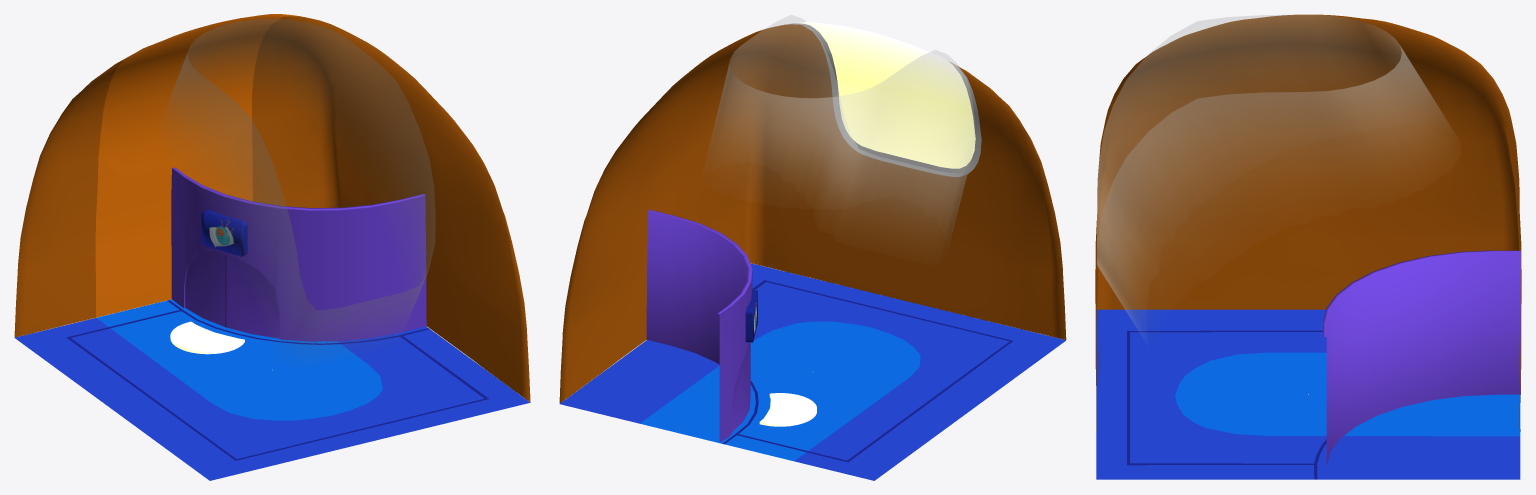
File: nosy_interior.glb
3 renders of one model, left to right at view 1: azimuth 30°, elevation 25°; view 2: azimuth 150°, elevation 25°; view 3: azimuth 270°, elevation 25°, orthographic. The views are drawn at different scales.
Visible parts, largest first — view 1: Walls, Plane, Cylinder.005, Cylinder, Cylinder.002, Cylinder.001, Cylinder.003; view 2: Walls, Plane, Cylinder.005, Walls.001, Cylinder, Cylinder.001, Cylinder.002; view 3: Walls, Cylinder.005, Plane, Cylinder.
Boxes of the visible parts, bbox=[...] form: Walls: bbox=[14, 14, 530, 402]; Plane: bbox=[14, 299, 530, 480]; Cylinder.005: bbox=[167, 19, 435, 346]; Cylinder: bbox=[171, 167, 426, 341]; Cylinder.002: bbox=[184, 251, 279, 338]; Cylinder.001: bbox=[170, 321, 244, 354]; Cylinder.003: bbox=[201, 209, 247, 256]; Walls: bbox=[559, 24, 1066, 403]; Plane: bbox=[560, 263, 1065, 480]; Cylinder.005: bbox=[707, 15, 974, 236]; Walls.001: bbox=[786, 22, 981, 176]; Cylinder: bbox=[646, 209, 752, 442]; Cylinder.001: bbox=[759, 393, 816, 426]; Cylinder.002: bbox=[732, 342, 750, 431]; Walls: bbox=[1095, 14, 1521, 431]; Cylinder.005: bbox=[1097, 14, 1447, 329]; Plane: bbox=[1096, 309, 1520, 479]; Cylinder: bbox=[1323, 250, 1520, 466].
Size of what is drawn, in the model's own units: 150 by 143 by 159.
Materials: 11 (2 with a texture image).
